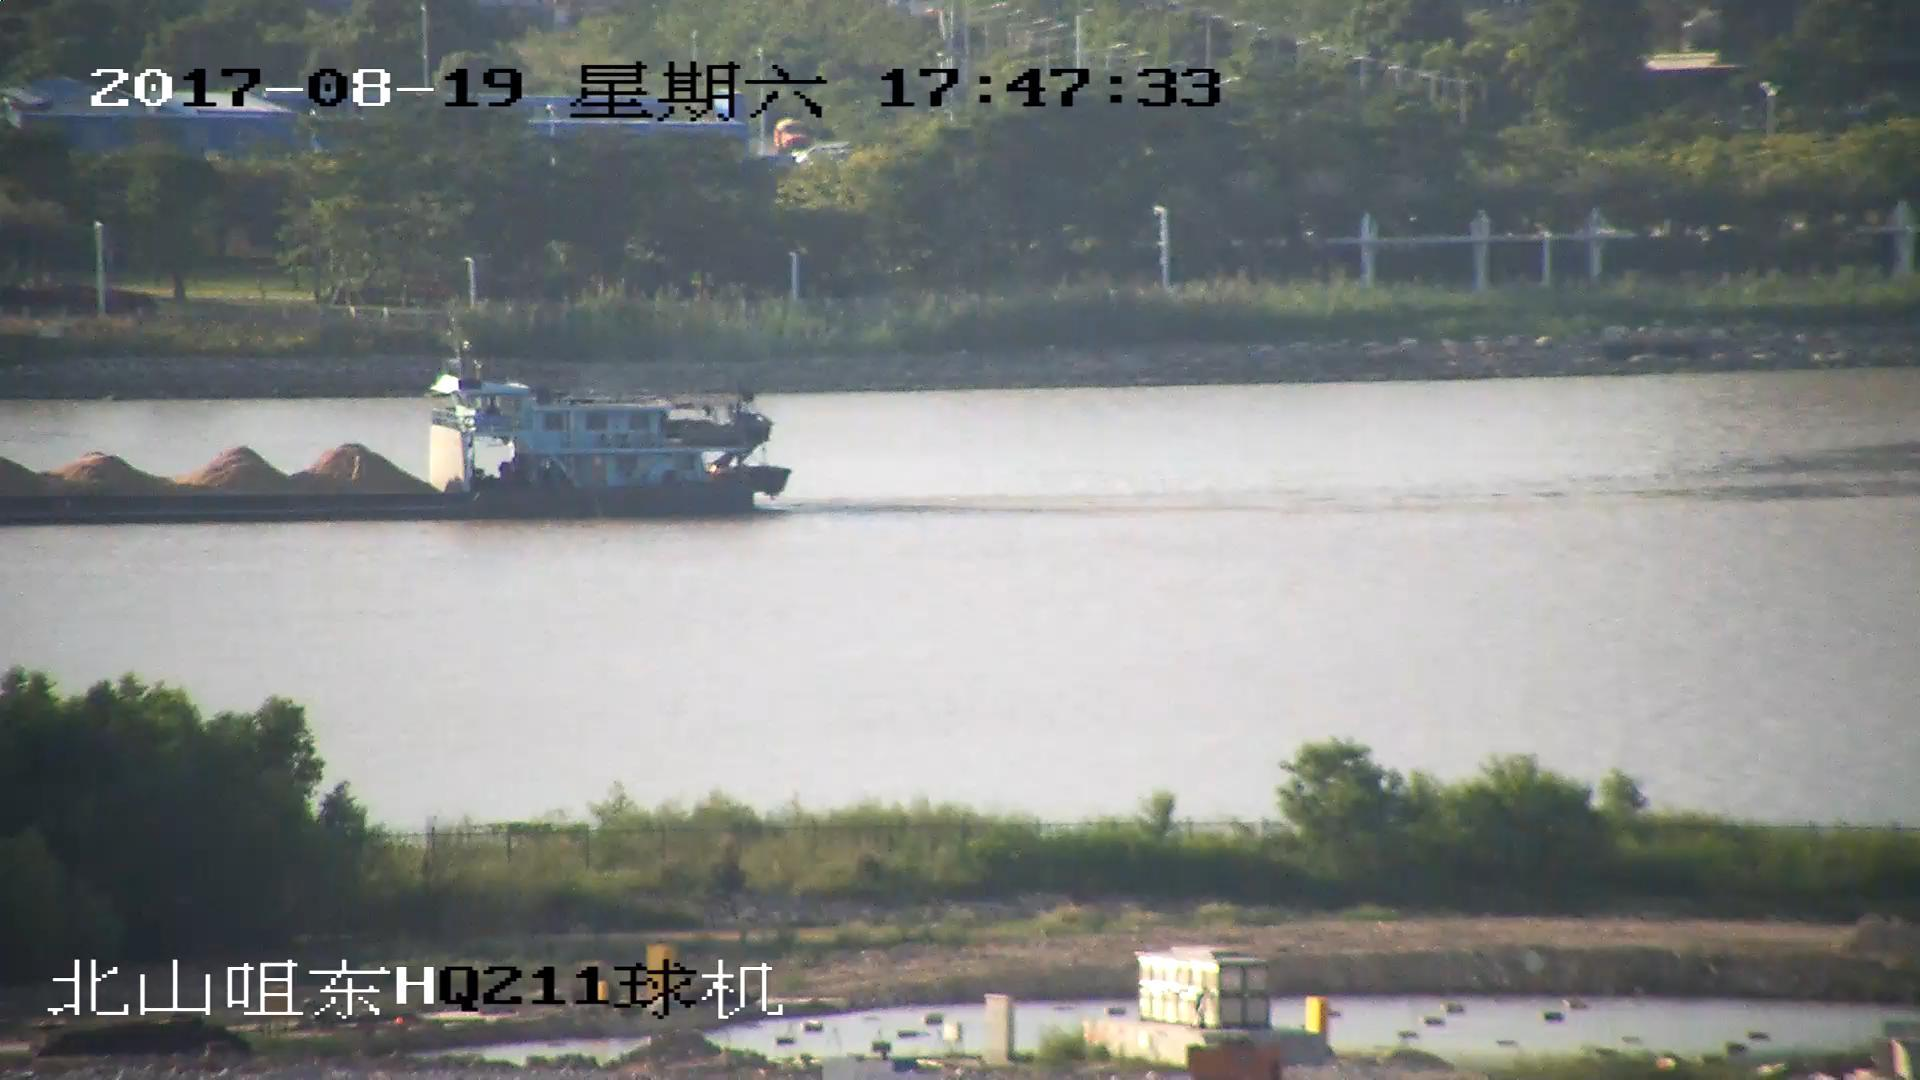Ship: (3, 334, 793, 527)
